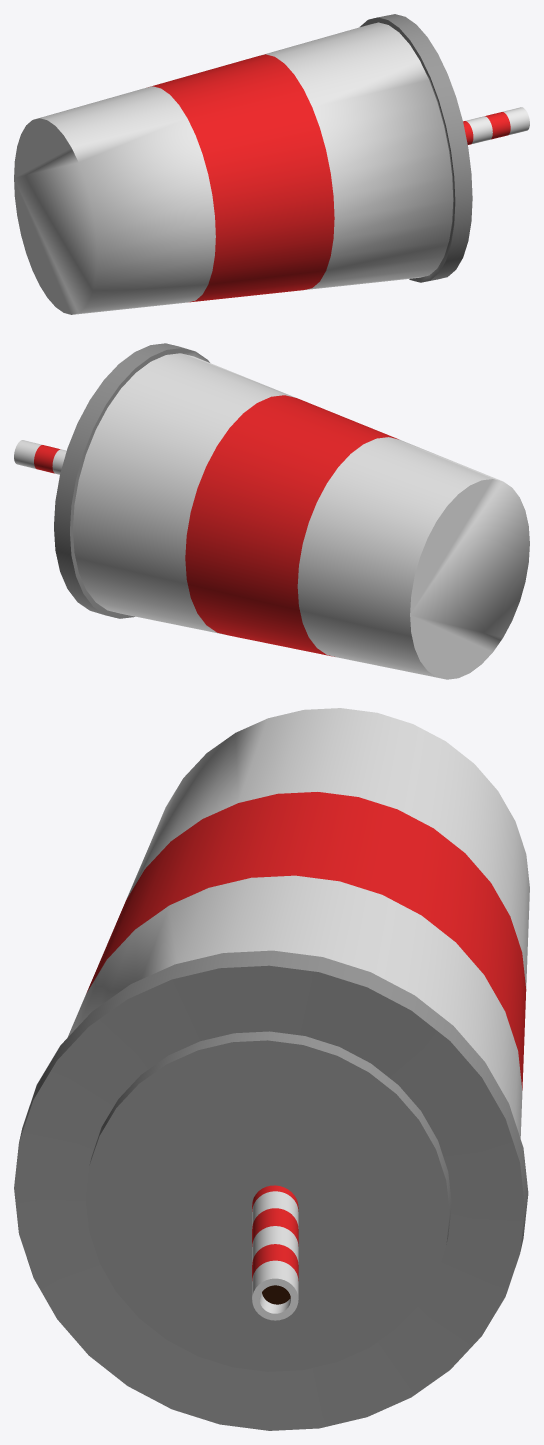
File: RedColav02.fbx
3 renders of one model, top to bottom at view 1: azimuth 30°, elevation 25°; view 2: azimuth 150°, elevation 25°; view 3: azimuth 270°, elevation 25°, orthographic. The views are drawn at different scales.
Parts seen in each view (by area): view 1: Red-Cola; view 2: Red-Cola; view 3: Red-Cola.
Part boxes in pixels (x1=…): Red-Cola: x1=14, y1=14, x2=529, y2=314; Red-Cola: x1=14, y1=343, x2=529, y2=679; Red-Cola: x1=14, y1=708, x2=529, y2=1430.
Bounding box in the file's own units: 268 × 137 × 137.
